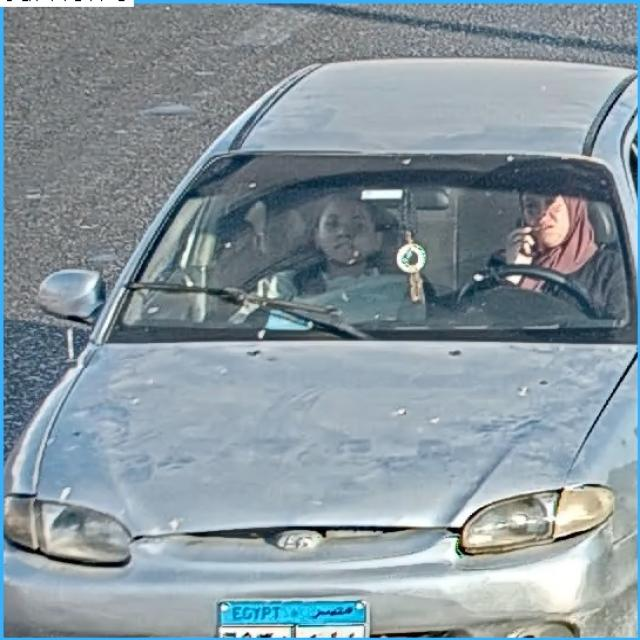windshield: (119, 162, 626, 340)
